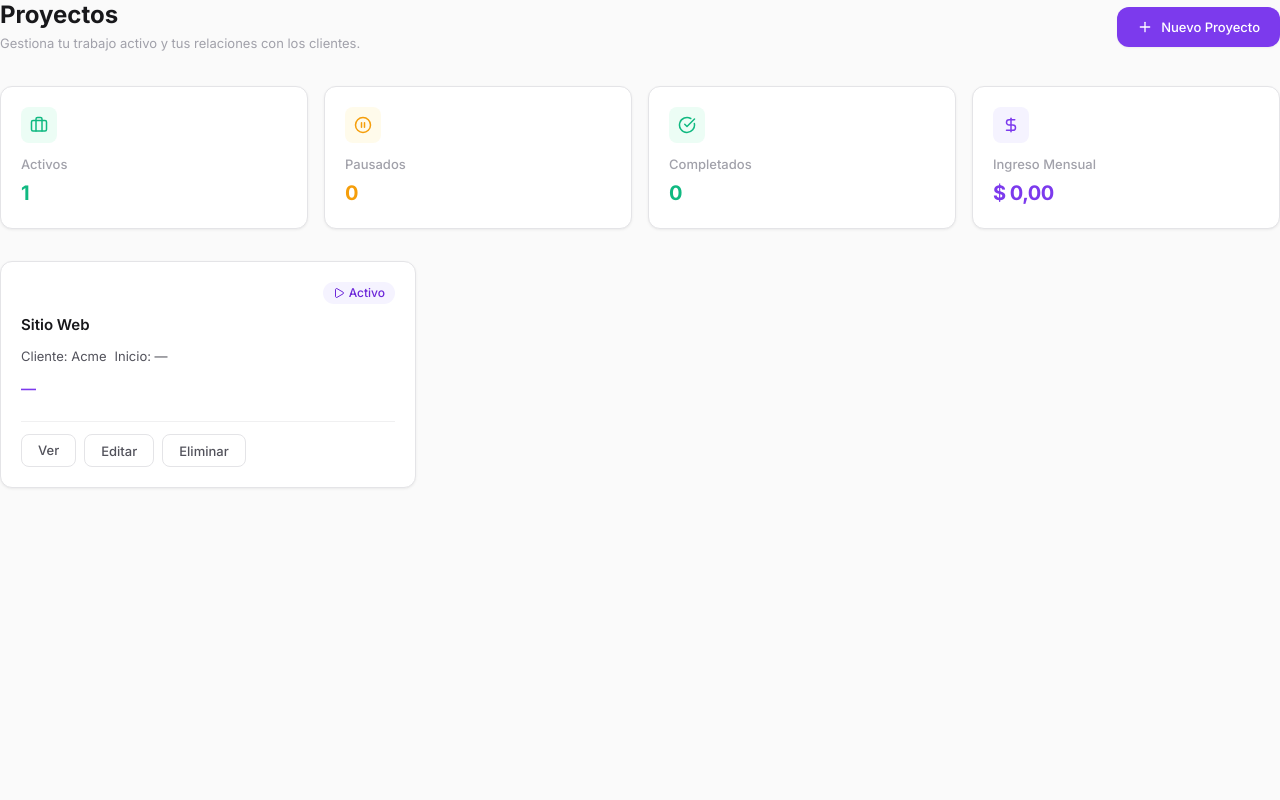
Test: ProjectsPage — delete confirmation › opens a confirm dialog when Eliminar is clicked and does not delete until confirmed
Click the button "Eliminar" at (204, 451), box [162, 434, 246, 467]
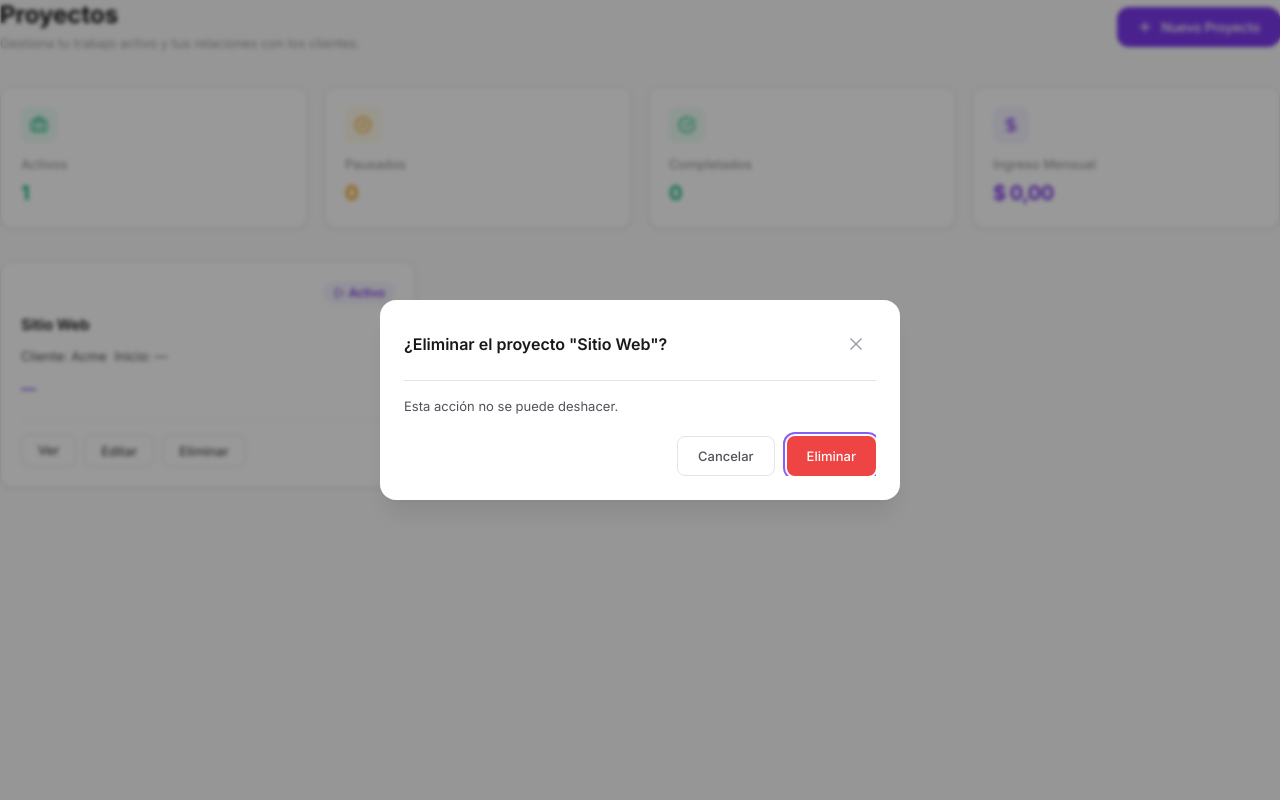
Check: the dialog is shown, box [380, 300, 900, 500]
Check: the heading "¿Eliminar el proyecto \"Sitio Web\"?" is shown, box [404, 334, 667, 354]
